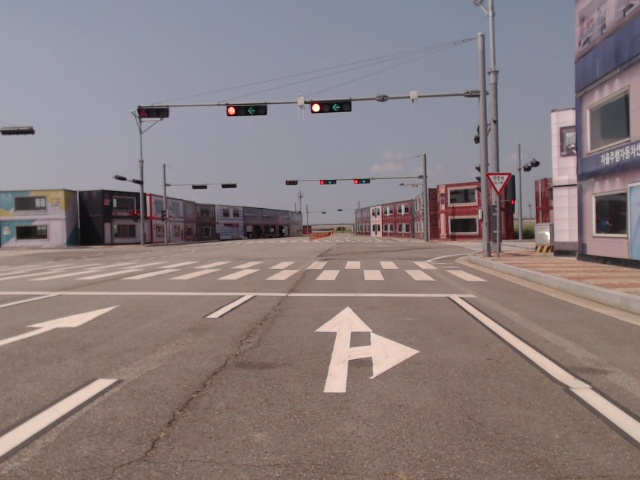left_green_4: (226, 106, 266, 117), (311, 103, 351, 113), (320, 180, 336, 185), (355, 180, 370, 184)
